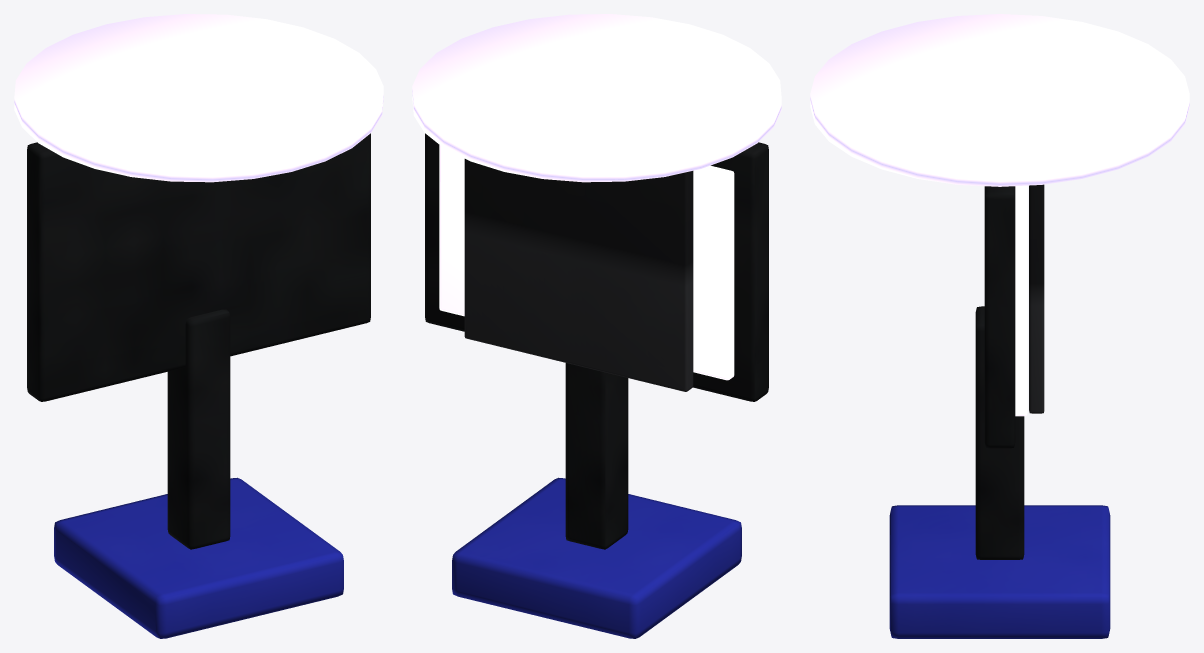
File: pack.agentspace.ad.linear.01.glb
3 renders of one model, left to right at view 1: azimuth 30°, elevation 25°; view 2: azimuth 150°, elevation 25°; view 3: azimuth 270°, elevation 25°, orthographic. The views are drawn at different scales.
Visible parts, largest first — view 1: CompanyAdFrame.002, CompanyAdAccent.002, CompanyAdBase.002, CompanyAdStem.002; view 2: CompanyAdAccent.002, CompanyLogo.005, CompanyAdBase.002, CompanyAdGlow.002, CompanyAdFrame.002, CompanyAdStem.002; view 3: CompanyAdAccent.002, CompanyAdBase.002, CompanyAdFrame.002, CompanyAdStem.002, CompanyLogo.005, CompanyAdGlow.002.
Part boxes in pixels (bbox=[...]): CompanyAdFrame.002: bbox=[27, 133, 370, 401]; CompanyAdAccent.002: bbox=[14, 14, 383, 182]; CompanyAdBase.002: bbox=[54, 477, 343, 638]; CompanyAdStem.002: bbox=[167, 309, 230, 549]; CompanyAdAccent.002: bbox=[412, 14, 781, 182]; CompanyLogo.005: bbox=[464, 159, 693, 391]; CompanyAdBase.002: bbox=[452, 477, 741, 638]; CompanyAdGlow.002: bbox=[439, 145, 734, 380]; CompanyAdFrame.002: bbox=[425, 133, 768, 401]; CompanyAdStem.002: bbox=[565, 363, 628, 549]; CompanyAdAccent.002: bbox=[810, 14, 1189, 186]; CompanyAdBase.002: bbox=[889, 505, 1110, 638]; CompanyAdFrame.002: bbox=[984, 186, 1015, 448]; CompanyAdStem.002: bbox=[975, 306, 1024, 559]; CompanyLogo.005: bbox=[1029, 184, 1044, 413]; CompanyAdGlow.002: bbox=[1015, 185, 1027, 416].
Bounding box in the file's own units: 1.28 × 1.8 × 1.24.
5 materials, 3 textured.
